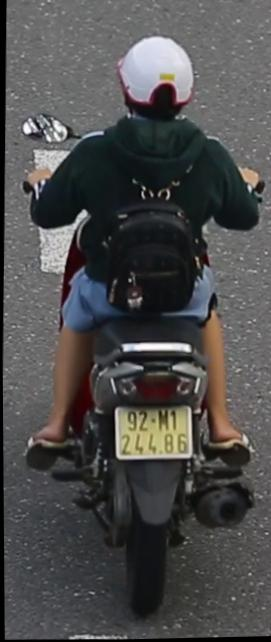LP: (109, 397, 194, 467)
helmet: (114, 29, 197, 131)
